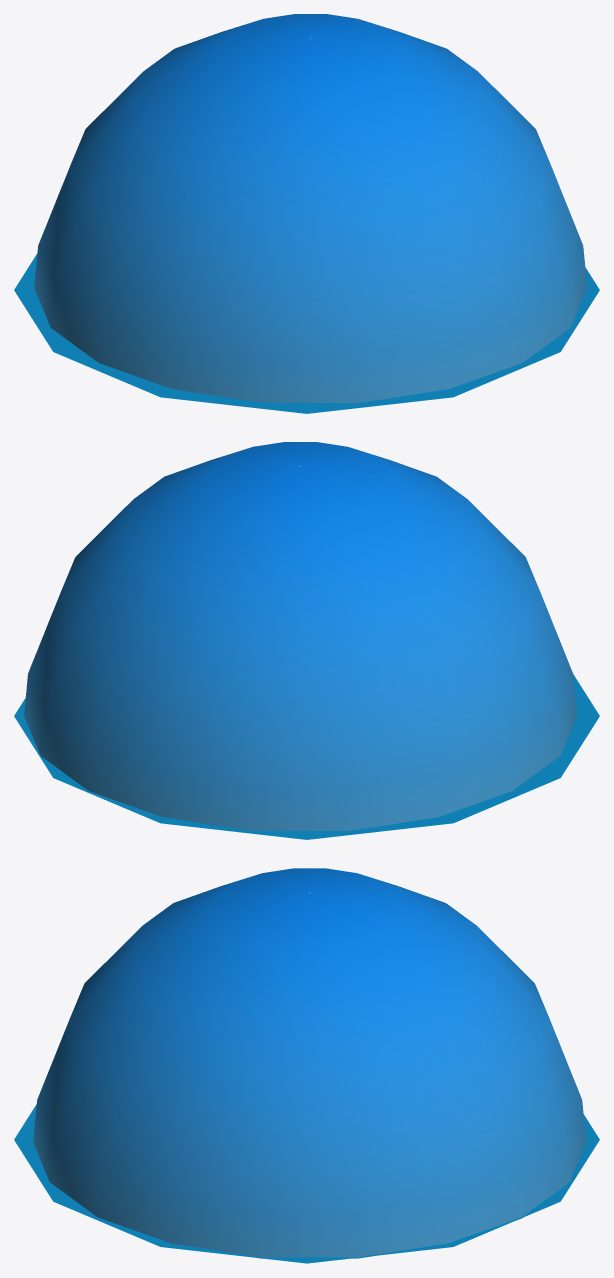
File: majorcity_haishui.FBX
The picture shows the model from 3 angles, top to bottom: view 1: azimuth 30°, elevation 25°; view 2: azimuth 150°, elevation 25°; view 3: azimuth 270°, elevation 25°; orthographic projection.
Visible parts, largest first — view 1: Sphere001, majorcity_haishui; view 2: Sphere001, majorcity_haishui; view 3: Sphere001, majorcity_haishui.
Part boxes in pixels (left/top/right/bottom): Sphere001: left=34, top=14, right=587, bottom=402; majorcity_haishui: left=14, top=254, right=599, bottom=413; Sphere001: left=24, top=442, right=577, bottom=830; majorcity_haishui: left=14, top=674, right=599, bottom=839; Sphere001: left=33, top=868, right=586, bottom=1258; majorcity_haishui: left=14, top=1104, right=599, bottom=1263.
Size of the model in its own units: 29879 by 14111 by 29879.
